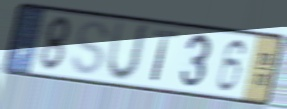3: (178, 32, 214, 91)
6: (216, 37, 247, 94)
8: (38, 13, 73, 73)
S: (69, 19, 111, 78)
T: (149, 27, 181, 85)
U: (104, 19, 152, 85)
